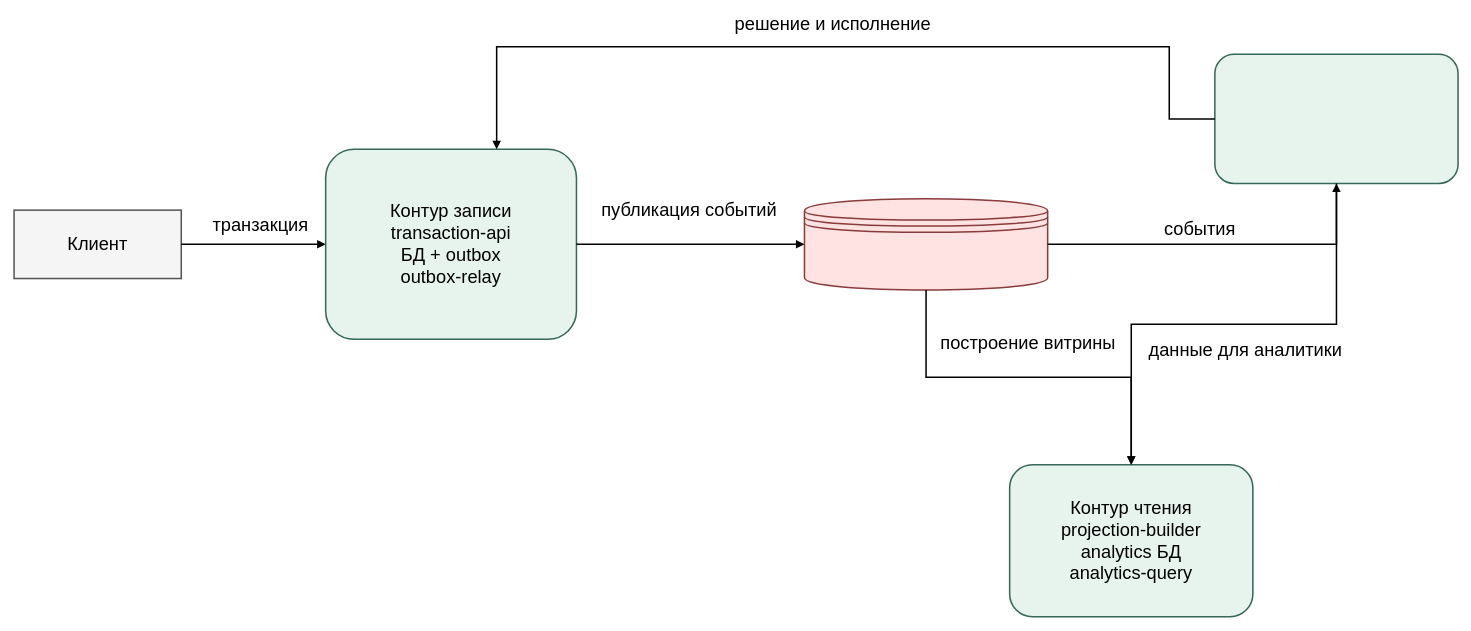
Some shapes in this 1471 by 631 pixel diagram are drawn without their labels. The centre of each missing label's shape, as x and y in pixels:
Kafka transactions.events: point 925,244
Обработка событий risk-evaluation transaction-executor: point 1336,118
